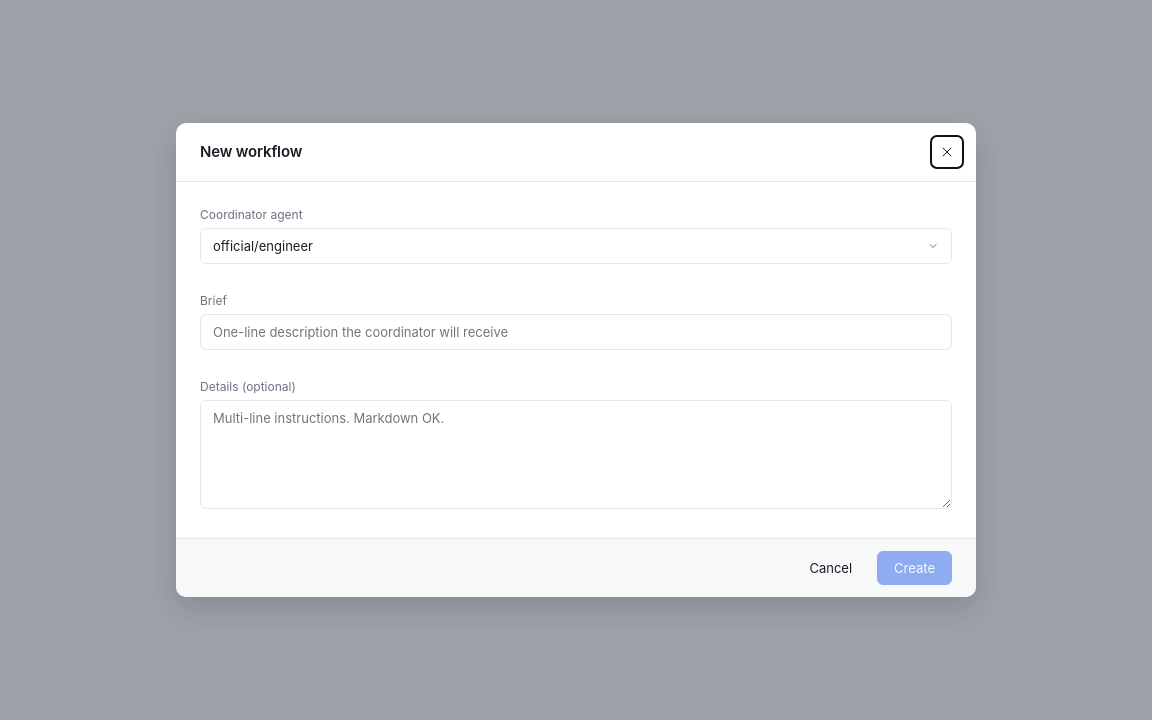
CreateWorkflowModal — field-scoped error rendering › falls back to the form-level banner for non-field-scoped errors
The width and height of the screenshot is (1152, 720).
In the field with test id "create-workflow-brief": (576, 332) [200,314,952,350], type "Plan it"
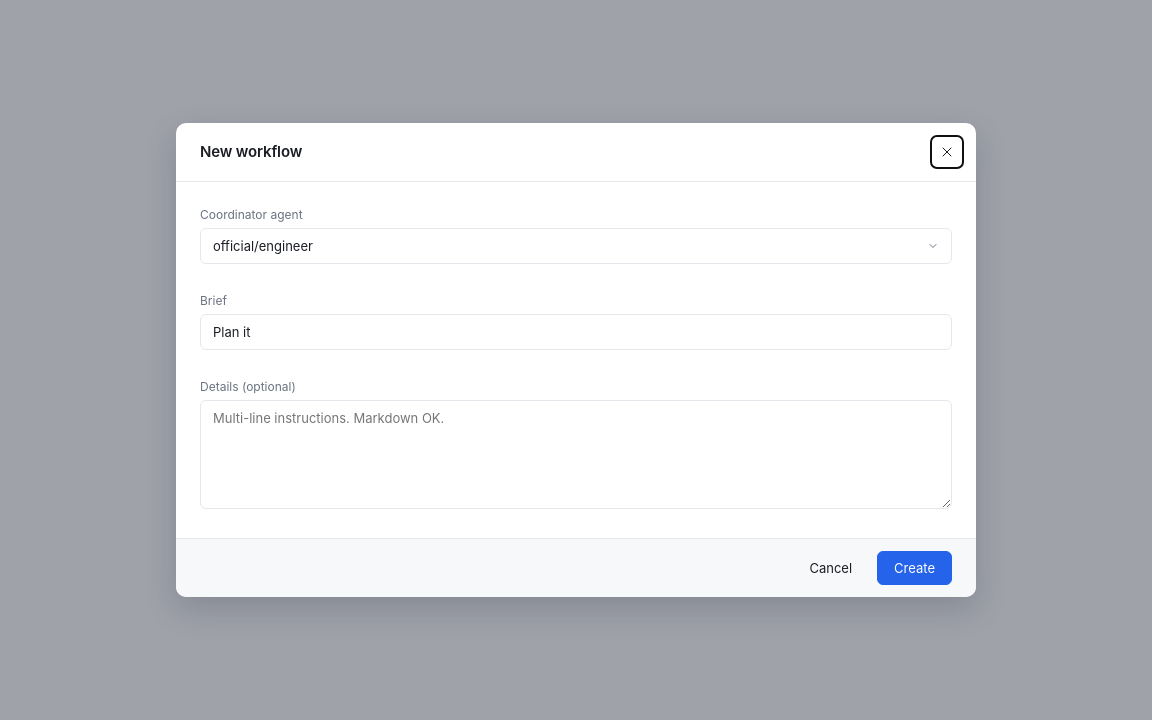
Click the button with test id "create-workflow-submit": click(915, 568) [877,551,952,585]
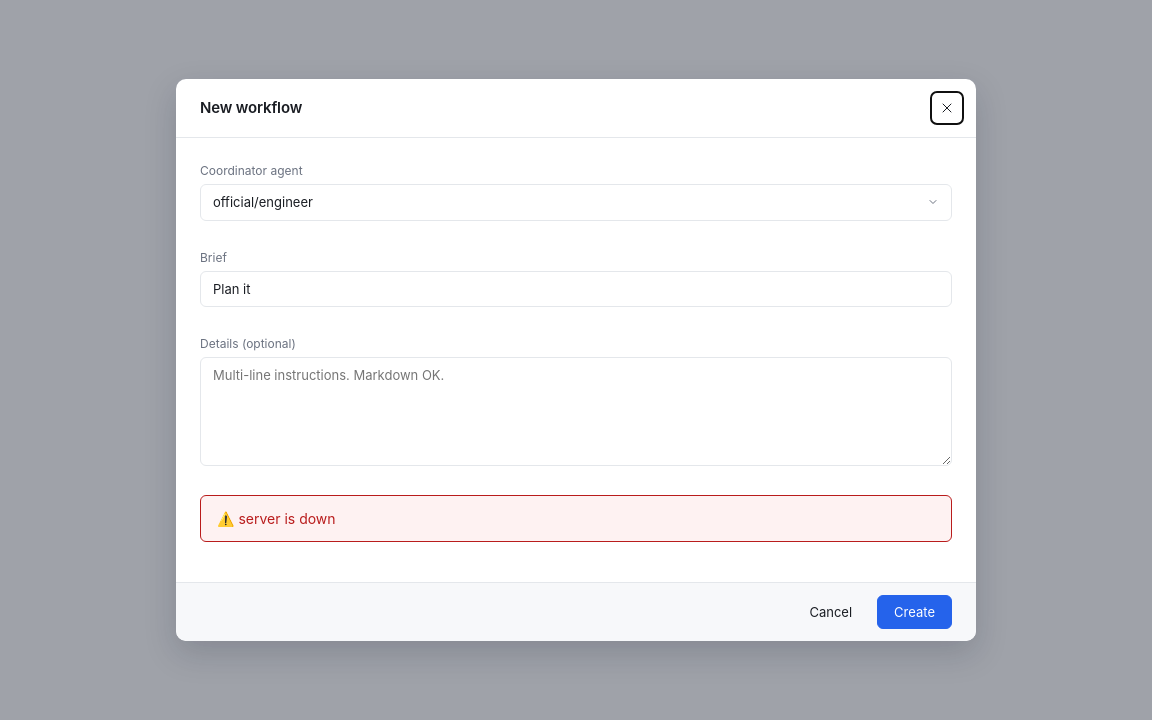
Result: the text with test id "create-workflow-submit-error" shows "server is down" at [238,510,336,527]
